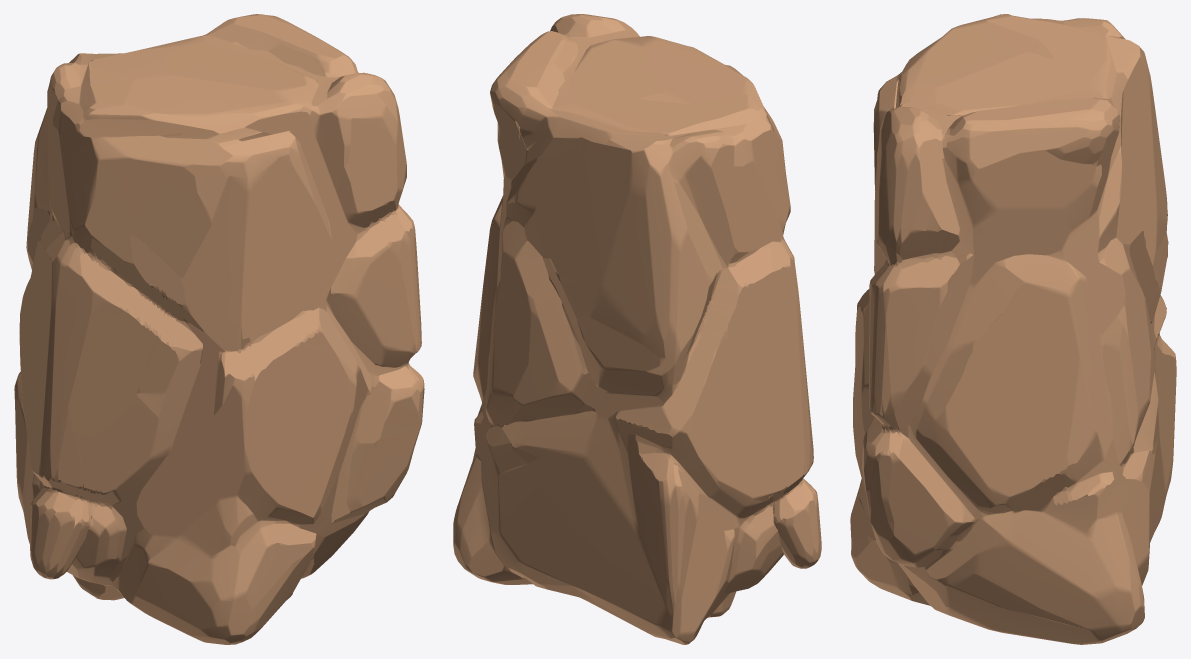
The picture shows the model from 3 angles, left to right: view 1: azimuth 30°, elevation 25°; view 2: azimuth 150°, elevation 25°; view 3: azimuth 270°, elevation 25°; orthographic projection. The views are drawn at different scales.
Parts seen in each view (by area): view 1: Mesh_23_LOD0; view 2: Mesh_23_LOD0; view 3: Mesh_23_LOD0.
Boxes of the visible parts, x1,y1,x2,y2 form: Mesh_23_LOD0: [14, 14, 424, 644]; Mesh_23_LOD0: [453, 14, 821, 644]; Mesh_23_LOD0: [850, 14, 1176, 644].
Size of what is drawn, in the model's own units: 1752 by 2627 by 1440.
